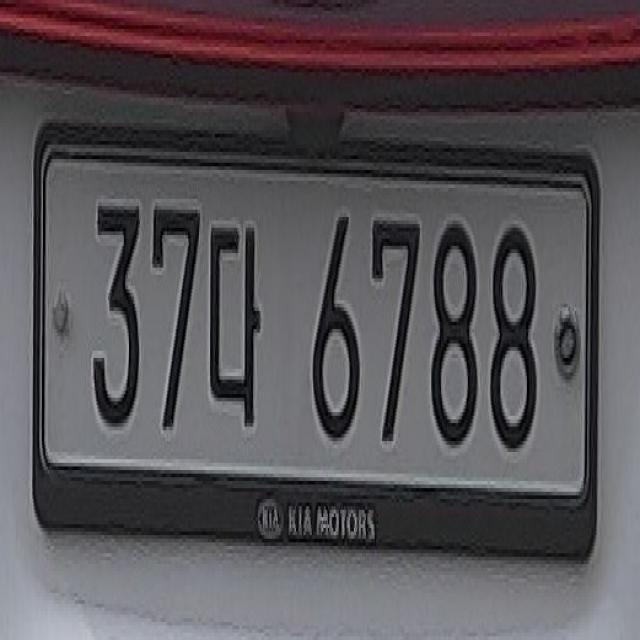3: (91, 192, 142, 438)
6: (311, 206, 362, 441)
7: (366, 202, 421, 445), (148, 199, 202, 437)
8: (429, 210, 480, 456), (488, 217, 539, 463)
da: (207, 217, 266, 437)
license_plate: (31, 120, 593, 542)
